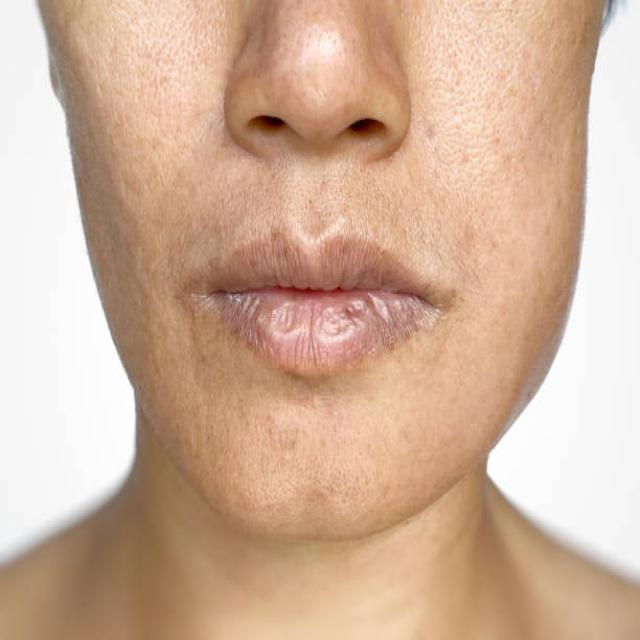dry: (164, 356, 484, 567), (412, 6, 568, 280), (56, 12, 210, 278)
